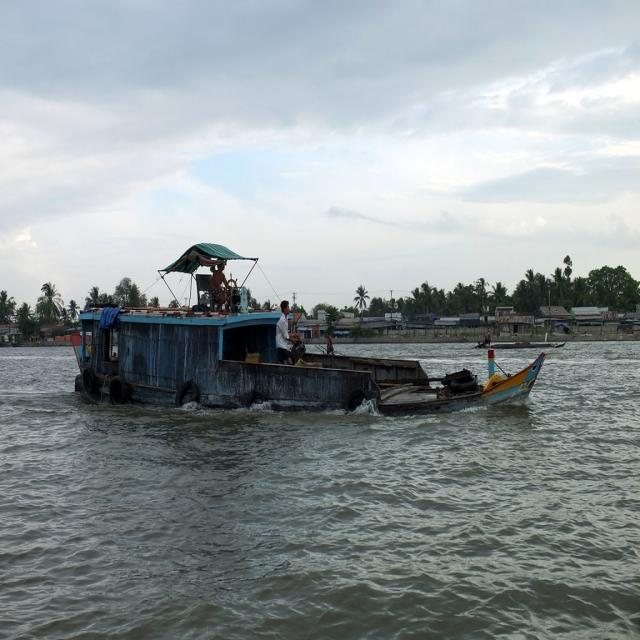Hyacinth: (56, 292, 484, 408)
boat: (476, 339, 565, 354)
